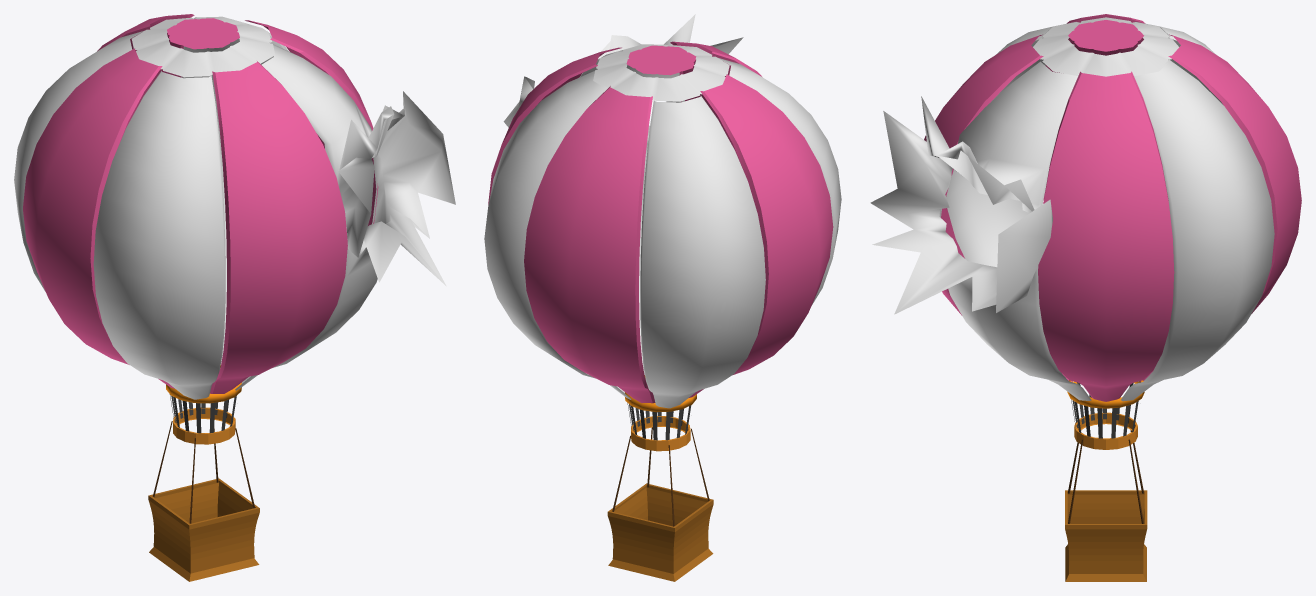
3 renders of one model, left to right at view 1: azimuth 30°, elevation 25°; view 2: azimuth 150°, elevation 25°; view 3: azimuth 270°, elevation 25°, orthographic. The views are drawn at different scales.
Parts seen in each view (by area): view 1: 1, 2, Cube; view 2: 1, 2, Cube; view 3: 1, 2, Cube.
Boxes of the visible parts, x1=… form: 1: x1=14, y1=16, x2=455, y2=399; 2: x1=23, y1=14, x2=378, y2=393; Cube: x1=148, y1=365, x2=259, y2=581; 1: x1=484, y1=14, x2=841, y2=408; 2: x1=488, y1=41, x2=833, y2=403; Cube: x1=607, y1=375, x2=713, y2=581; 1: x1=870, y1=17, x2=1274, y2=401; 2: x1=924, y1=14, x2=1301, y2=401; Cube: x1=1065, y1=380, x2=1147, y2=581.
Size of the model in its own units: 2.32 by 3.15 by 2.33.
